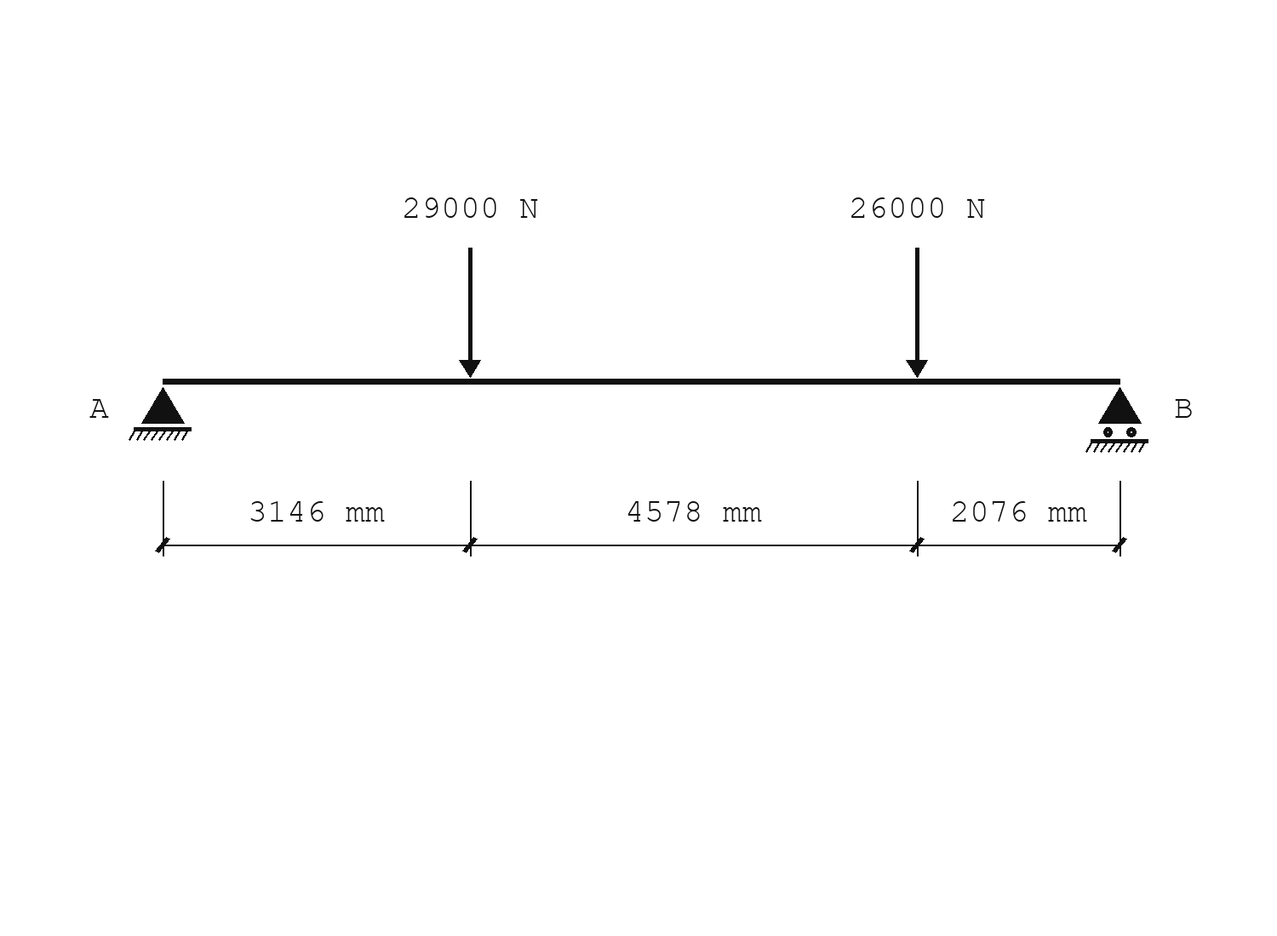pin_support: (129, 387, 192, 441)
point_load: (459, 248, 481, 378), (906, 248, 928, 378)
roller_support: (1085, 387, 1148, 453)
